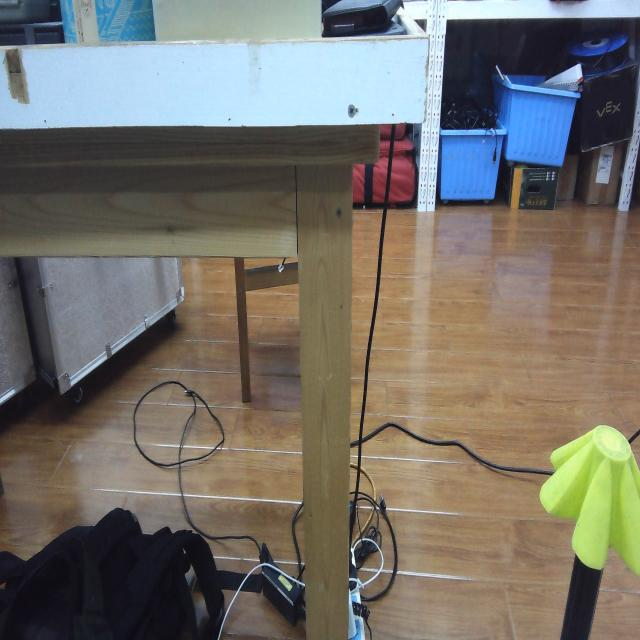Yellow-Stake-Head: (540, 424, 640, 576)
